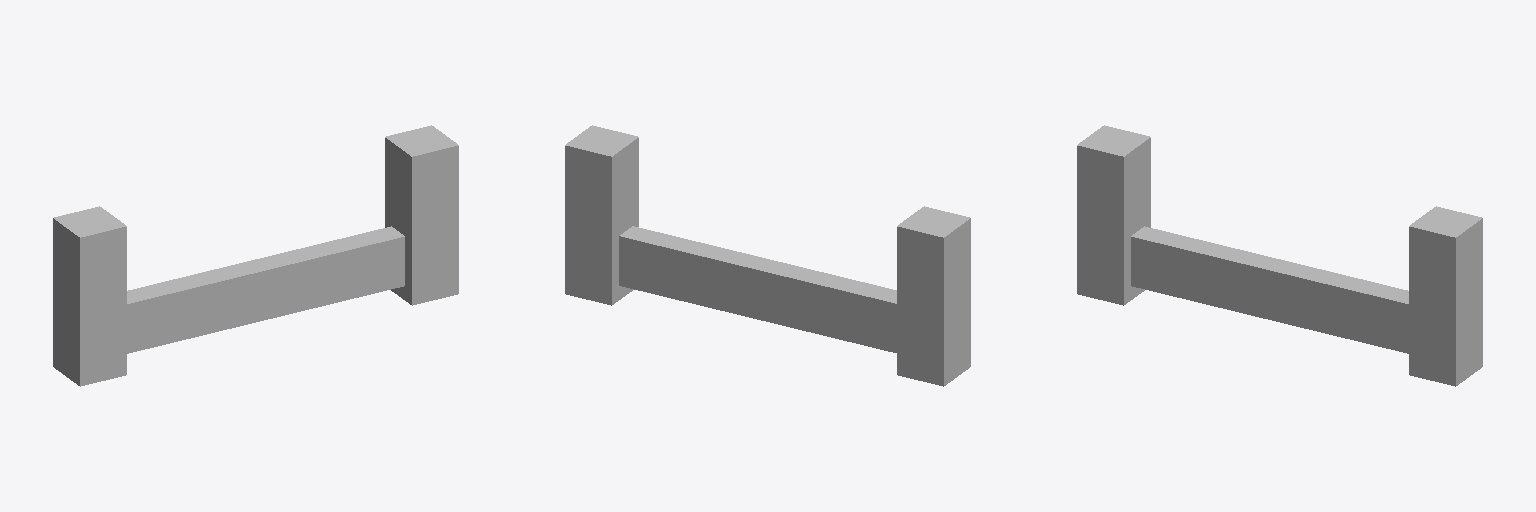
Rendered from ForestLadderExtra.obj.
3 renders of one model, left to right at view 1: azimuth 30°, elevation 25°; view 2: azimuth 150°, elevation 25°; view 3: azimuth 330°, elevation 25°, orthographic.
Parts seen in each view (by area): view 1: ForestLadderExtra; view 2: ForestLadderExtra; view 3: ForestLadderExtra.
Part boxes in pixels (left/top/right/bottom): ForestLadderExtra: left=53, top=125, right=458, bottom=386; ForestLadderExtra: left=565, top=125, right=970, bottom=386; ForestLadderExtra: left=1077, top=125, right=1482, bottom=386.
Bounding box in the file's own units: 160 × 60 × 20.